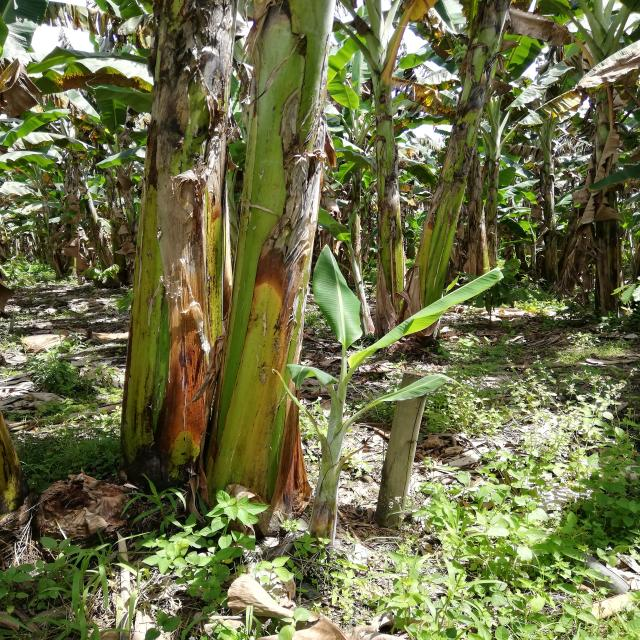Banana-plant: (191, 9, 343, 508), (115, 8, 242, 476), (379, 0, 508, 365), (360, 10, 405, 351), (586, 10, 620, 323)
